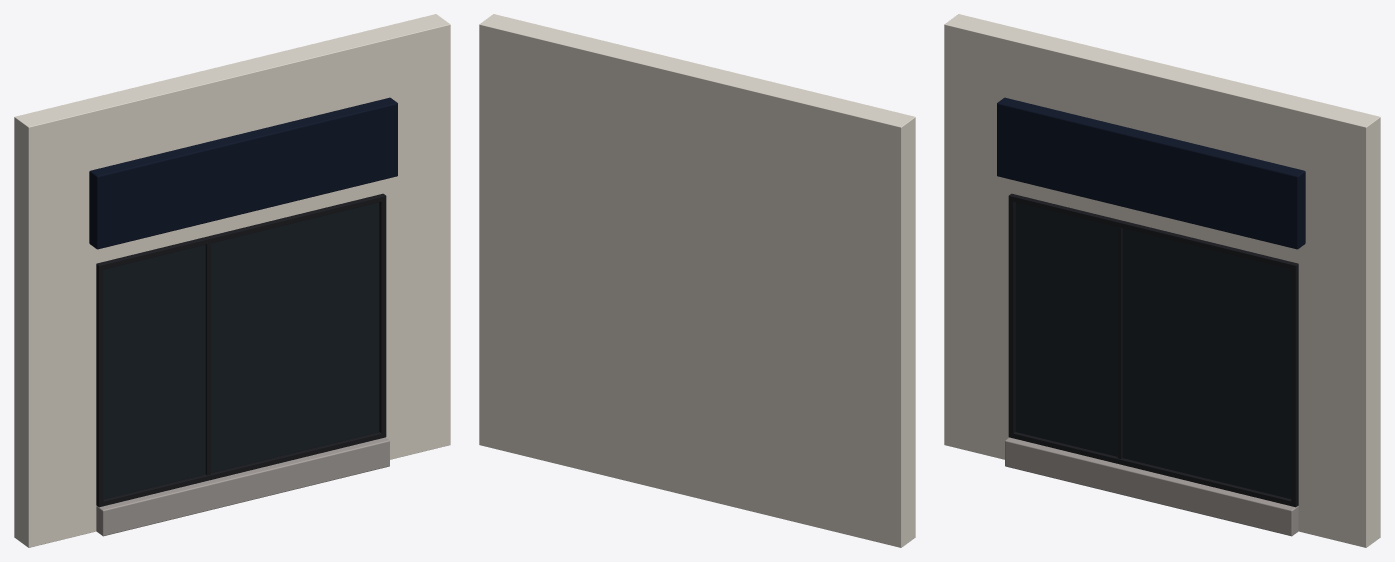
The model's file is storefront-sign.glb.
3 renders of one model, left to right at view 1: azimuth 30°, elevation 25°; view 2: azimuth 150°, elevation 25°; view 3: azimuth 330°, elevation 25°, orthographic.
Visible parts, largest first — view 1: Wall, Window, Sign, Frame, Sill; view 2: Wall; view 3: Wall, Window, Sign, Frame, Sill.
Boxes of the visible parts, bbox=[...] form: Wall: bbox=[14, 14, 450, 547]; Window: bbox=[103, 202, 379, 498]; Sign: bbox=[89, 97, 397, 249]; Frame: bbox=[96, 193, 386, 507]; Sill: bbox=[96, 437, 389, 536]; Wall: bbox=[479, 14, 915, 547]; Wall: bbox=[944, 14, 1380, 547]; Window: bbox=[1015, 202, 1291, 498]; Sign: bbox=[997, 97, 1305, 249]; Frame: bbox=[1008, 193, 1298, 507]; Sill: bbox=[1005, 437, 1298, 536].
Bounding box in the file's own units: 4.2 × 4 × 0.39.
